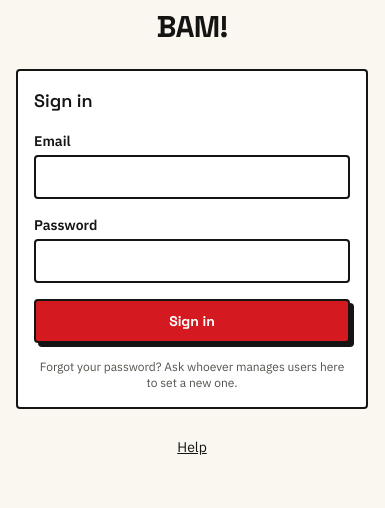
Test case: SignIn › shows the server error for bad credentials
Type "ada@hackspace.org" into the field labelled "Email" at (192, 177), box x1=34 y1=155 x2=350 y2=199
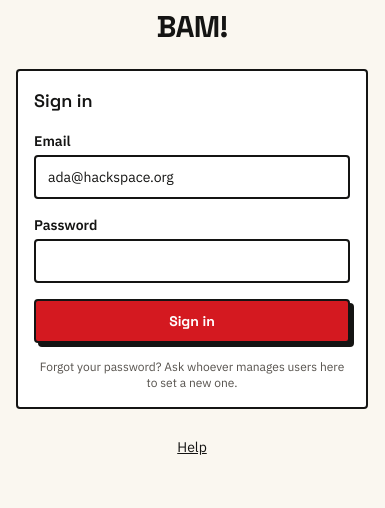
Type "wrong" into the password field labelled "Password" at (192, 261), box x1=34 y1=239 x2=350 y2=283
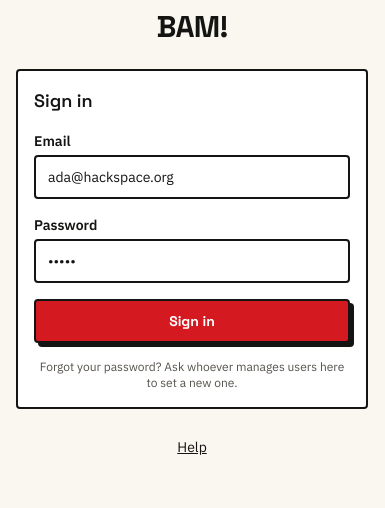
Submit the form from the button "Sign in", box x1=34 y1=299 x2=350 y2=343
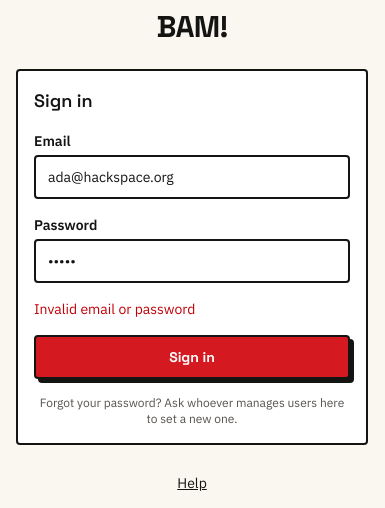
Result: the message reads "Invalid email or password" at x1=34 y1=300 x2=195 y2=318
